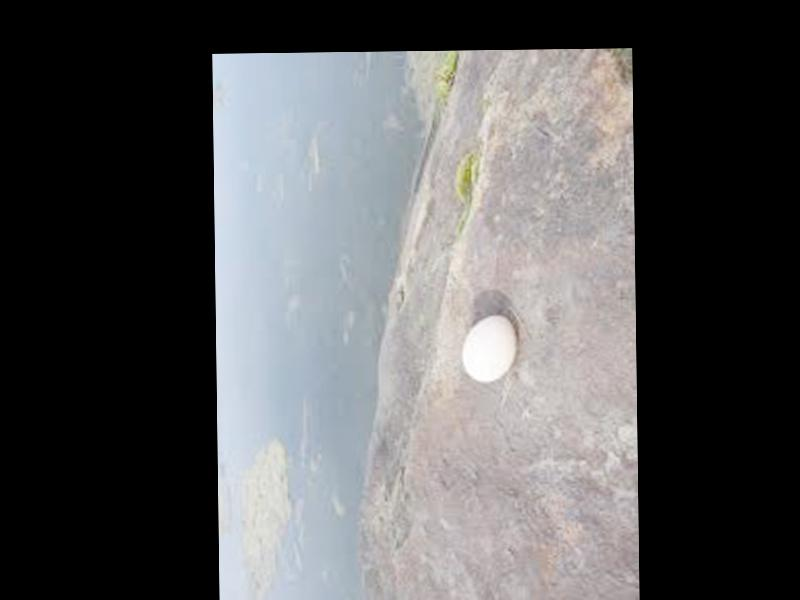Eggs: (460, 316, 515, 386)
